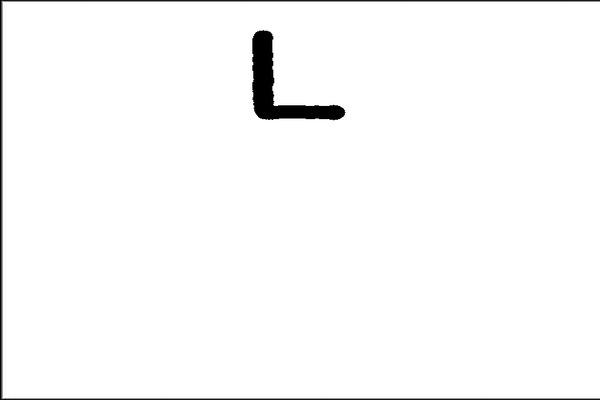L: (244, 22, 354, 128)
